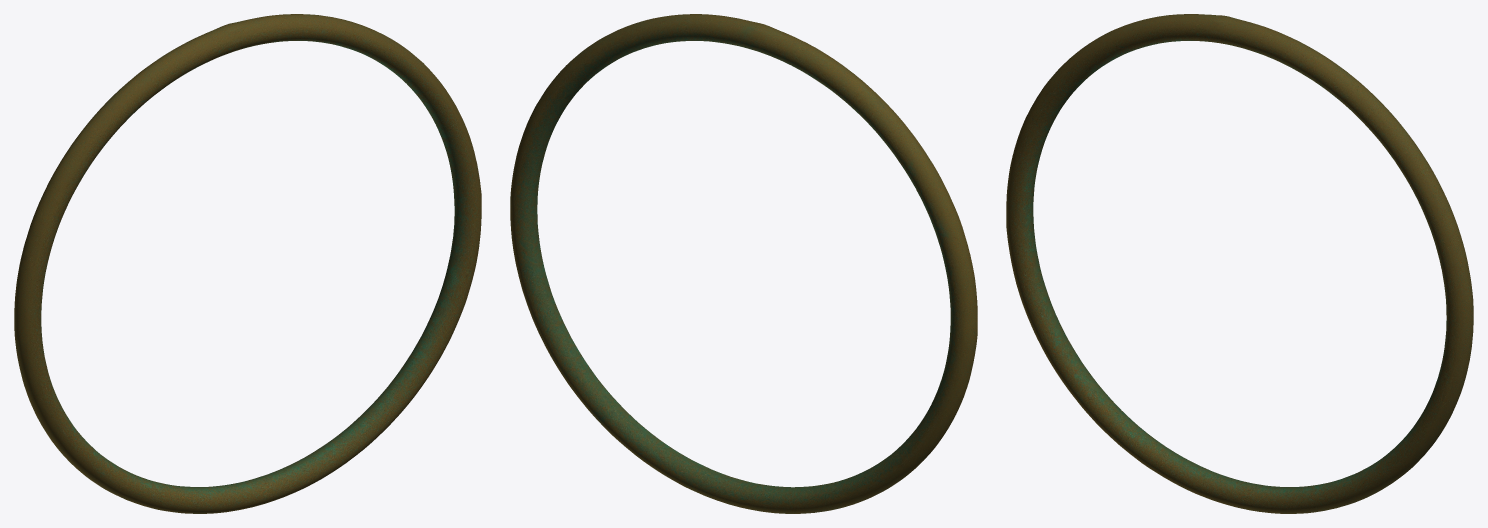
File: ring_bronze_game.glb
3 renders of one model, left to right at view 1: azimuth 30°, elevation 25°; view 2: azimuth 150°, elevation 25°; view 3: azimuth 330°, elevation 25°, orthographic.
Visible parts, largest first — view 1: Mesh_0; view 2: Mesh_0; view 3: Mesh_0.
Boxes of the visible parts, x1,y1,x2,y2 form: Mesh_0: (14, 14, 481, 513); Mesh_0: (510, 14, 977, 513); Mesh_0: (1006, 14, 1473, 513).
Size of the model in its own units: 2.1 by 2.11 by 0.1132.
1 material, 1 textured.
